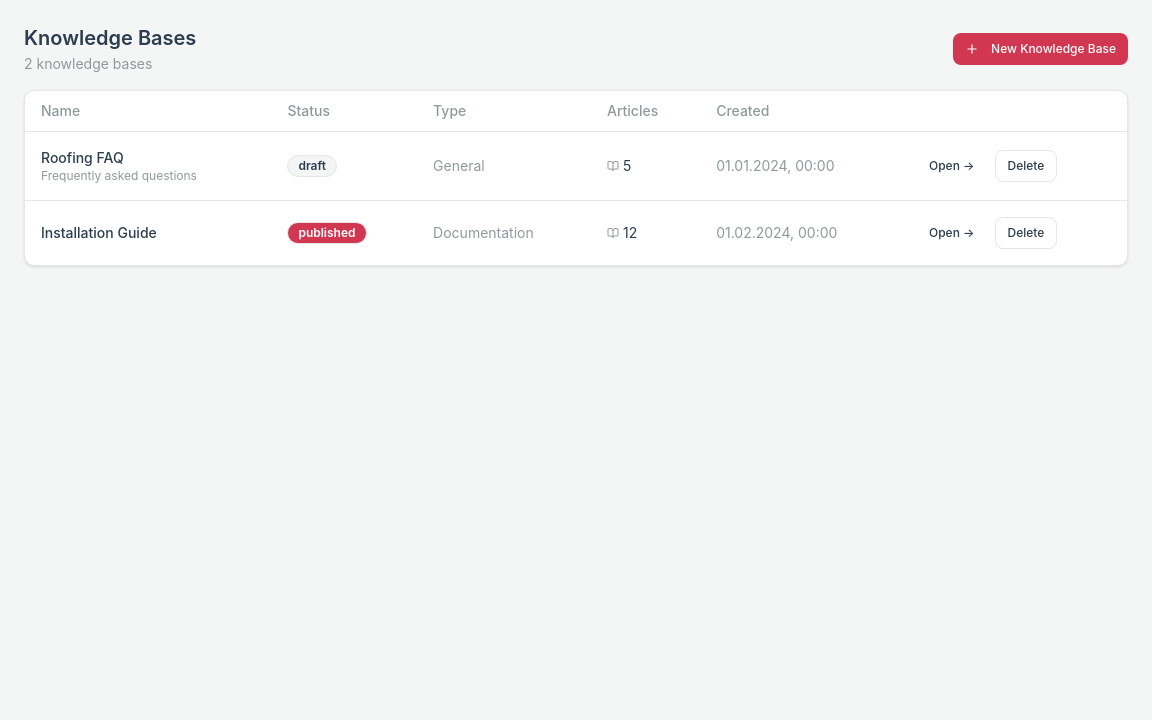
Scenario: KnowledgeBasesPage › create form toggles open when create button is clicked
Click the button with test id "kb-create-button".
click(1041, 49)  # box [953, 33, 1128, 65]
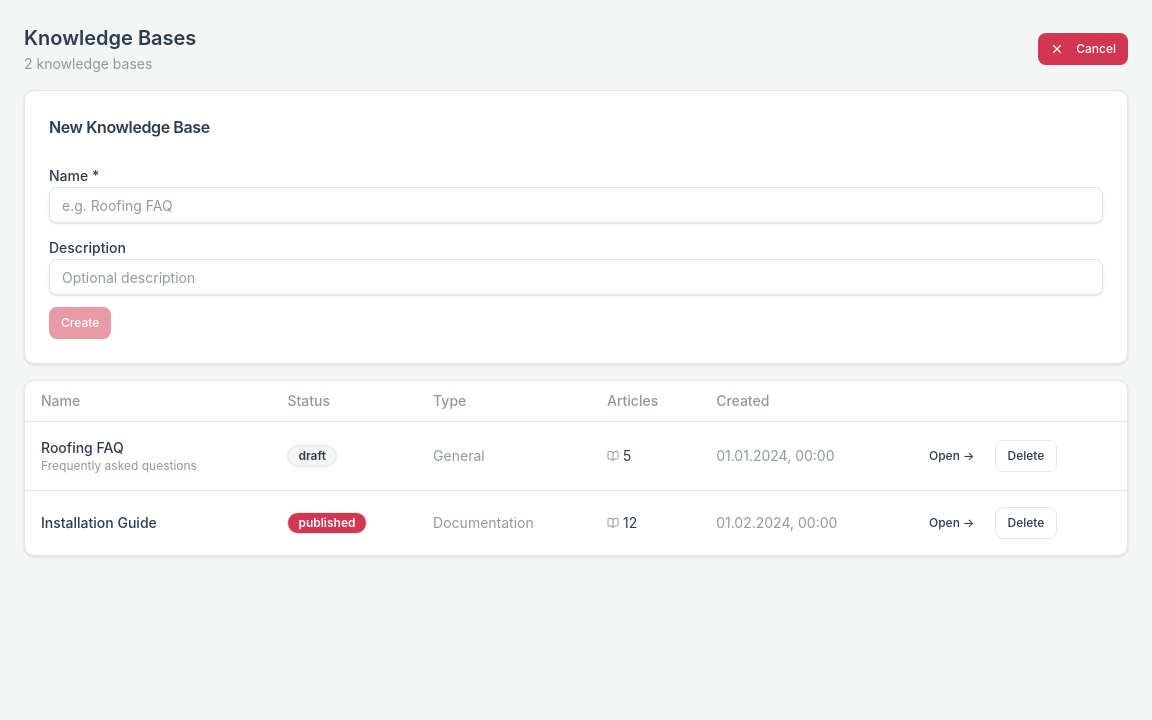
Result: the element with test id "kb-create-form" is shown at [24, 90, 1128, 364]
